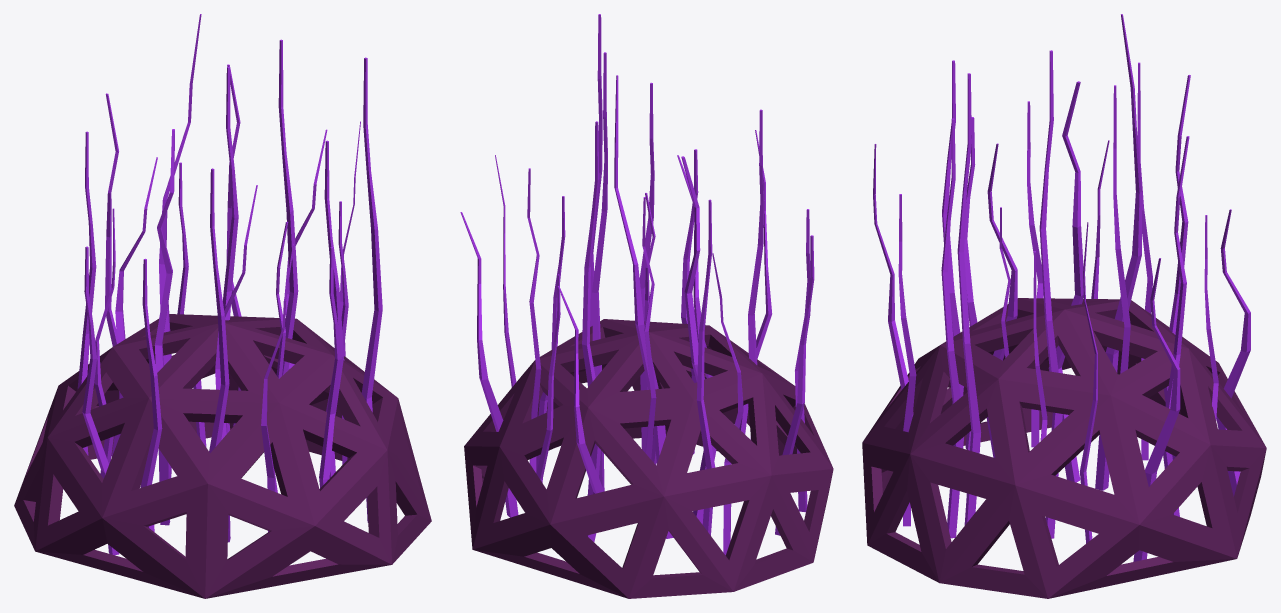
File: VL_Plant01.fbx
3 renders of one model, left to right at view 1: azimuth 30°, elevation 25°; view 2: azimuth 150°, elevation 25°; view 3: azimuth 270°, elevation 25°, orthographic. The views are drawn at different scales.
Visible parts, largest first — view 1: VL_Plant01; view 2: VL_Plant01; view 3: VL_Plant01.
Part boxes in pixels (bbox=[...]): VL_Plant01: bbox=[14, 14, 431, 598]; VL_Plant01: bbox=[460, 14, 833, 598]; VL_Plant01: bbox=[862, 14, 1266, 598].
Bounding box in the file's own units: 149 × 189 × 140.
1 material, 1 textured.
